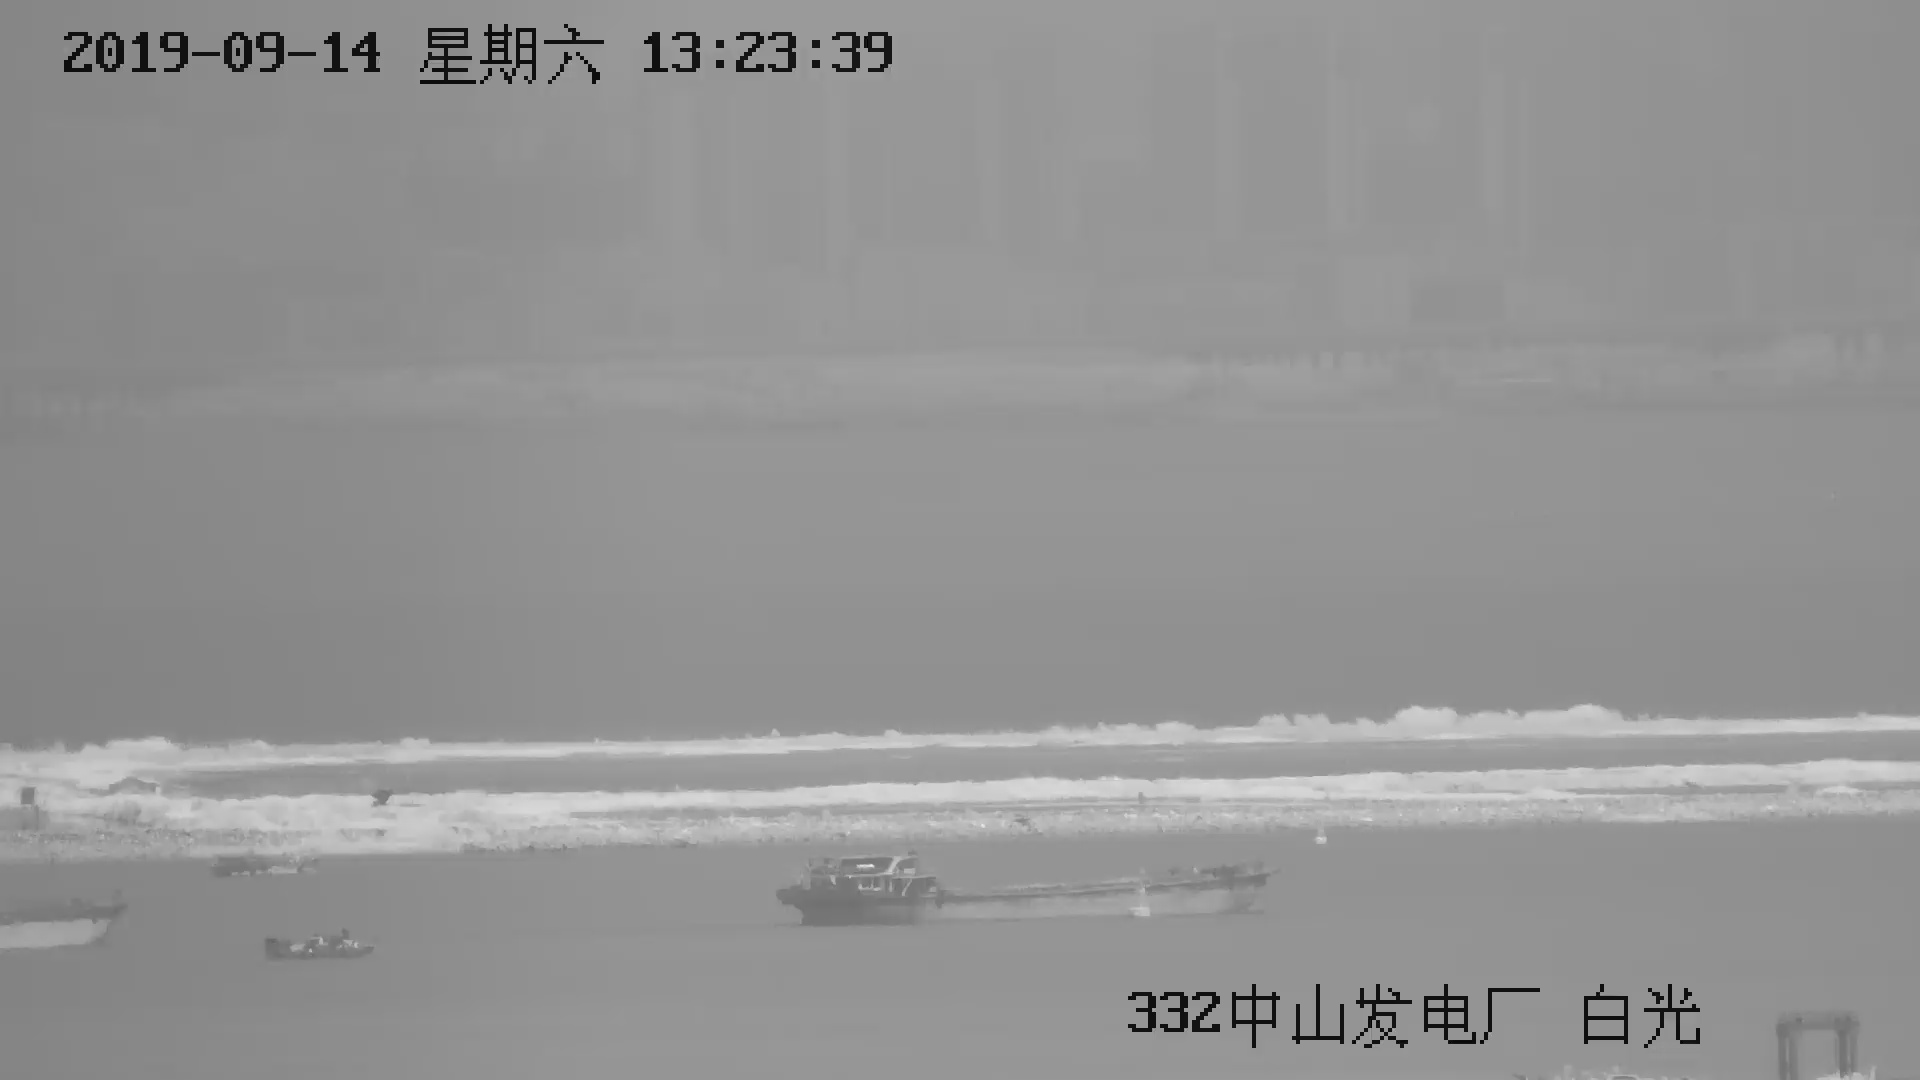ship: (778, 851, 1280, 923), (272, 932, 376, 960)
